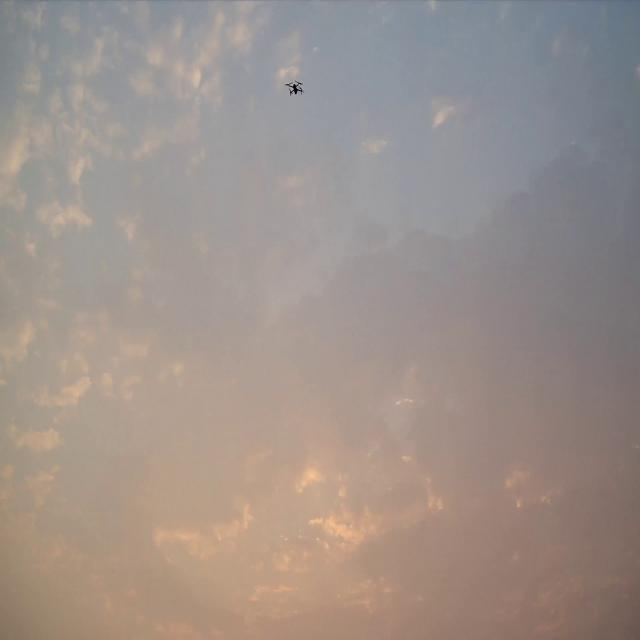drone: (284, 80, 305, 95)
